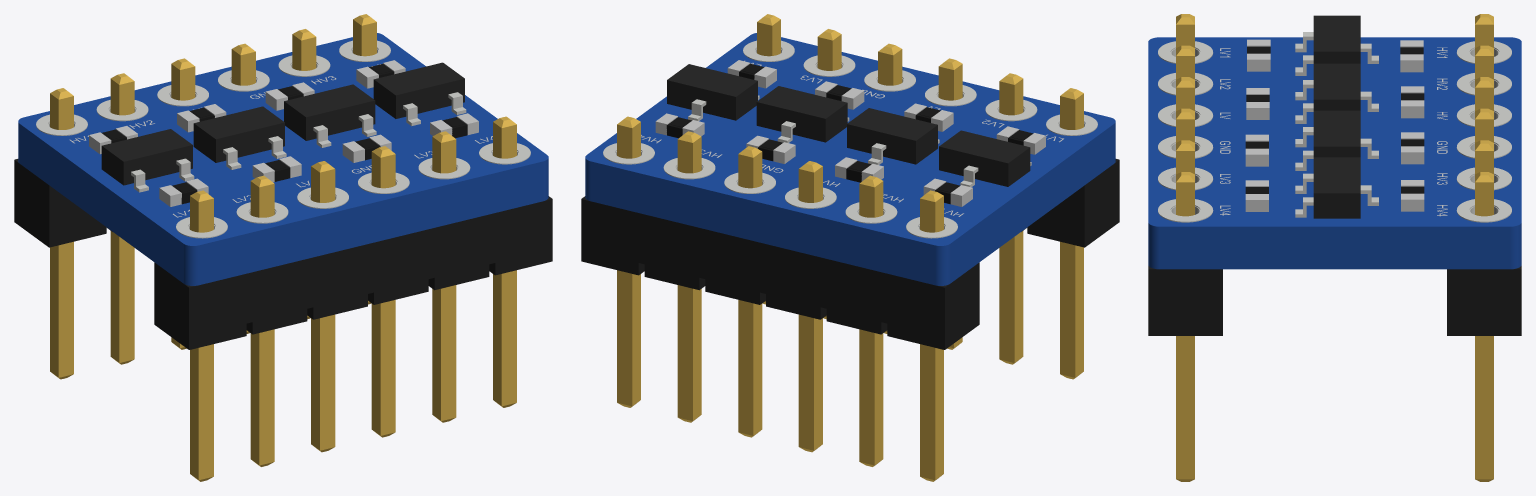
The model's file is bss138-4ch-level-shifter.glb.
The picture shows the model from 3 angles, left to right: view 1: azimuth 30°, elevation 25°; view 2: azimuth 150°, elevation 25°; view 3: azimuth 270°, elevation 25°; orthographic projection. The views are drawn at different scales.
Visible parts, largest first — view 1: pcb, hdr_LV_body, pin_LV_5, pin_LV_2, pin_LV_3, pin_LV_4, hdr_HV_body, pin_LV_6, pin_LV_1, pin_HV_1, pin_HV_2, body (+22 smaller); view 2: pcb, hdr_HV_body, pin_HV_5, pin_HV_2, pin_HV_3, pin_HV_4, hdr_LV_body, pin_HV_6, pin_HV_1, pin_LV_1, pin_LV_2, body_2 (+24 smaller); view 3: pcb, hdr_HV_body, hdr_LV_body, pin_HV_6, pin_LV_6, body_3, body, body_1, body_2, silkscreen, part_o1_2_16, part_o1_2_34 (+28 smaller).
Part boxes in pixels (box(x1,y1,x2,y2)): pcb: box(18, 33, 548, 285); hdr_LV_body: box(154, 196, 552, 349); pin_LV_5: box(432, 131, 456, 422); pin_LV_2: box(250, 175, 274, 466); pin_LV_3: box(311, 161, 335, 452); pin_LV_4: box(371, 146, 395, 437); hdr_HV_body: box(14, 159, 112, 247); pin_LV_6: box(493, 116, 516, 407); pin_LV_1: box(190, 190, 213, 481); pin_HV_1: box(50, 88, 73, 379); pin_HV_2: box(110, 73, 134, 364); body: box(101, 129, 192, 185); pcb: box(585, 33, 1115, 285); hdr_HV_body: box(581, 196, 979, 349); pin_HV_5: box(677, 131, 701, 422); pin_HV_2: box(859, 175, 883, 466); pin_HV_3: box(798, 161, 822, 452); pin_HV_4: box(738, 146, 762, 437); hdr_LV_body: box(1021, 159, 1119, 247); pin_HV_6: box(617, 116, 640, 407); pin_HV_1: box(920, 190, 943, 481); pin_LV_1: box(1060, 88, 1083, 379); pin_LV_2: box(999, 73, 1023, 364); body_2: box(756, 86, 847, 142); pcb: box(1148, 37, 1521, 269); hdr_HV_body: box(1447, 266, 1521, 335); hdr_LV_body: box(1148, 266, 1222, 335); pin_HV_6: box(1475, 172, 1493, 481); pin_LV_6: box(1176, 172, 1194, 481); body_3: box(1313, 157, 1360, 218); body: box(1313, 15, 1360, 63); body_1: box(1313, 63, 1360, 110); body_2: box(1313, 110, 1360, 157); silkscreen: box(1220, 47, 1447, 216); part_o1_2_16: box(1456, 199, 1511, 222); part_o1_2_34: box(1158, 199, 1213, 222).
Bounding box in the file's own units: 0.0152 × 0.0115 × 0.0127.
